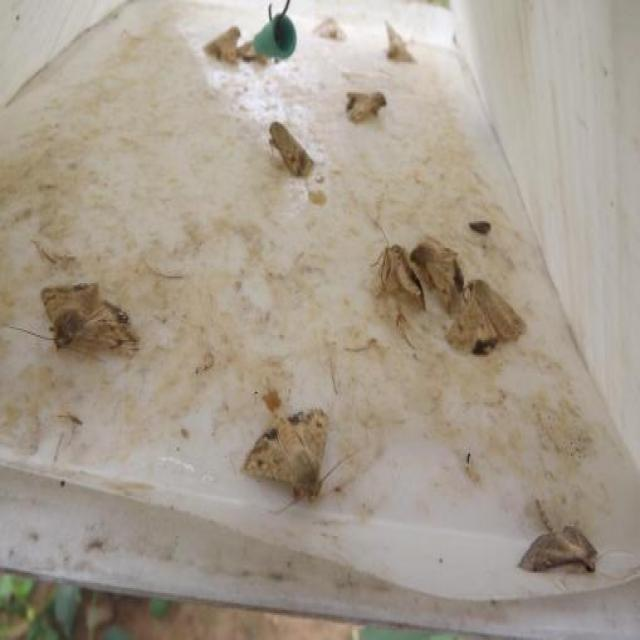BeetArmyWorm-Adult-: (220, 386, 344, 513), (40, 263, 154, 382), (261, 110, 328, 183)
